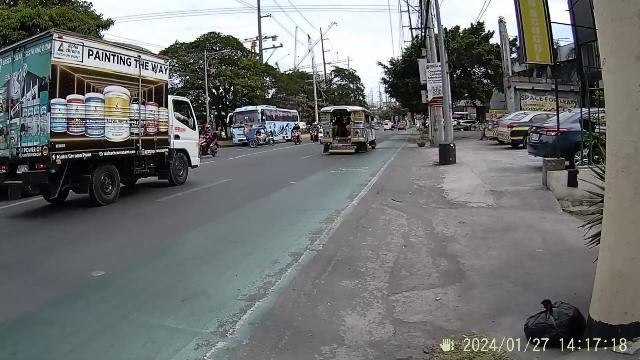car: (318, 103, 378, 157)
potted_plant: (416, 120, 426, 148)
utility_post: (428, 0, 458, 164), (252, 1, 284, 97)
